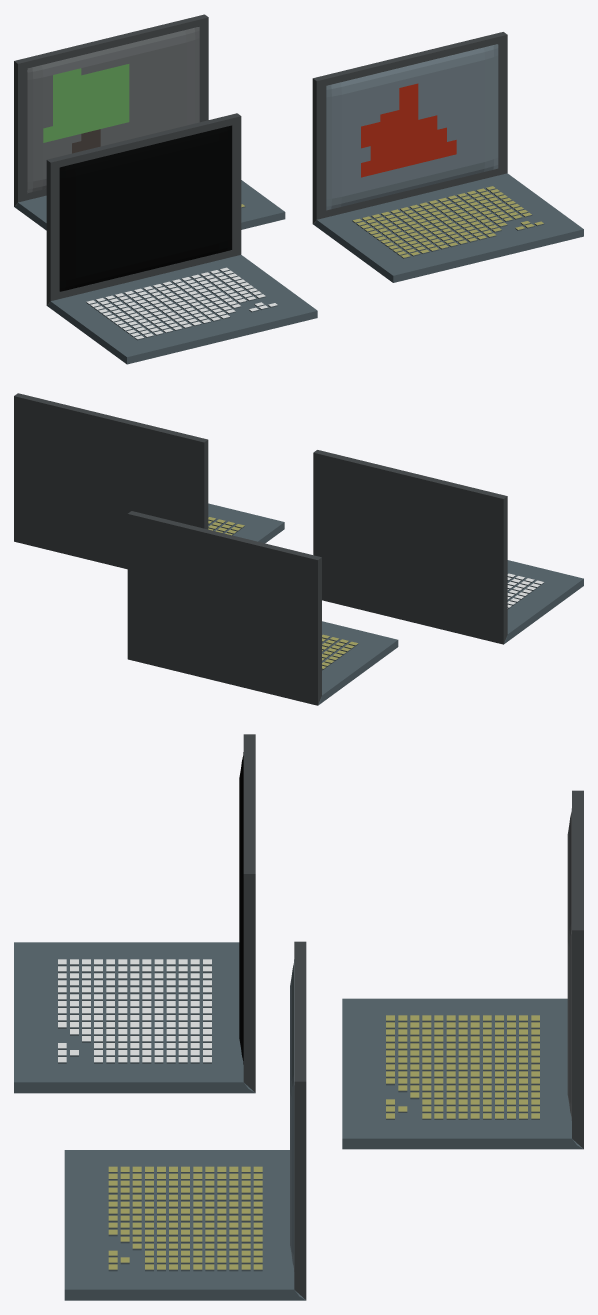
The model's file is laptops.fbx.
3 views of the same model, one above another, from view 1: azimuth 30°, elevation 25°; view 2: azimuth 150°, elevation 25°; view 3: azimuth 270°, elevation 25° (orthographic). The views are drawn at different scales.
Visible parts, largest first — view 1: Cube.015, Cube.014, Cube.010; view 2: Cube.010, Cube.015, Cube.014; view 3: Cube.015, Cube.010, Cube.014.
Boxes of the visible parts, x1,y1,x2,y2 form: Cube.015: (46,113,317,364); Cube.014: (312,32,583,282); Cube.010: (14,14,285,230); Cube.010: (127,511,398,705); Cube.015: (313,450,583,644); Cube.014: (14,393,284,569); Cube.015: (14,734,255,1093); Cube.010: (342,790,583,1149); Cube.014: (64,941,306,1300).
Size of the model in its own units: 79.74 by 23.46 by 55.33.
